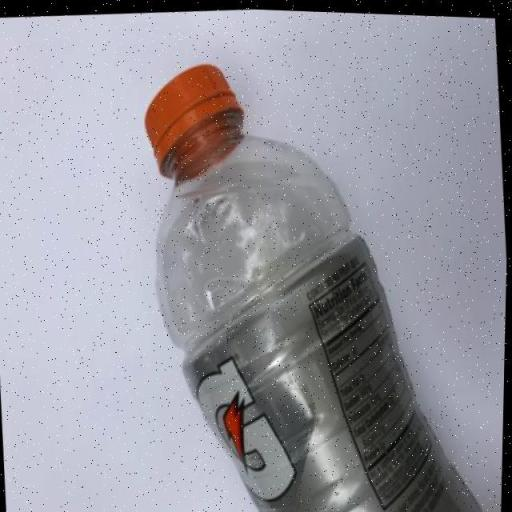plastic: (130, 39, 492, 512)
